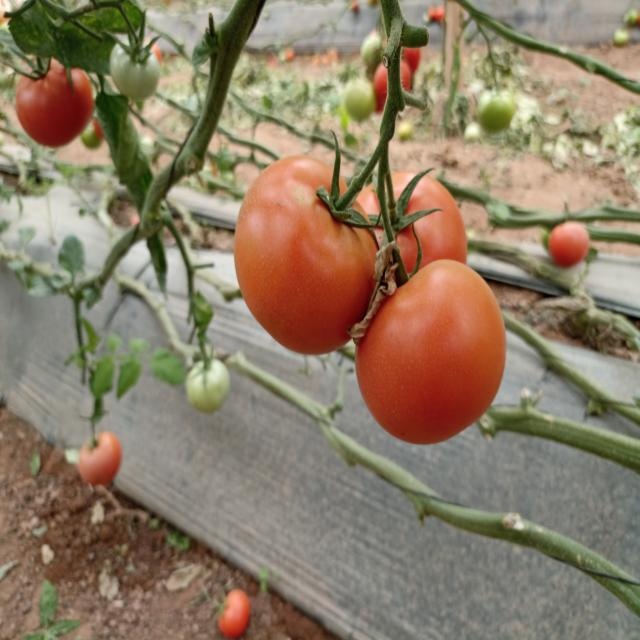Ripe Tomato: (238, 160, 388, 352), (360, 259, 508, 445), (352, 170, 472, 295)
